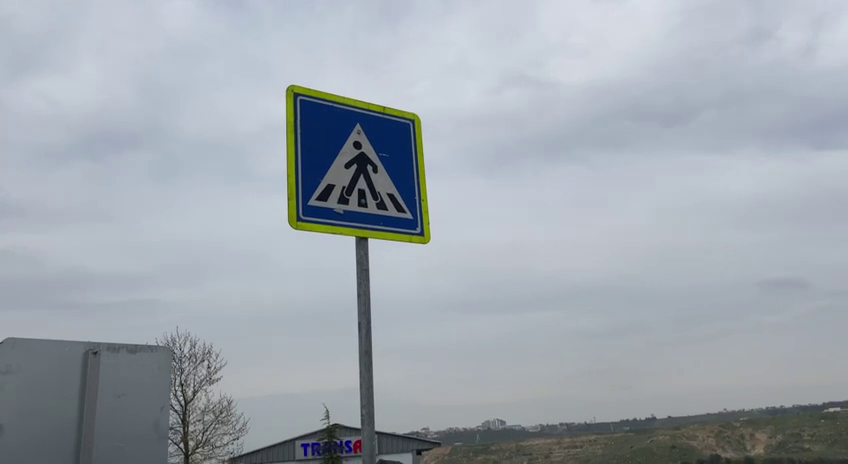pedestrianCrossing: (285, 82, 434, 247)
